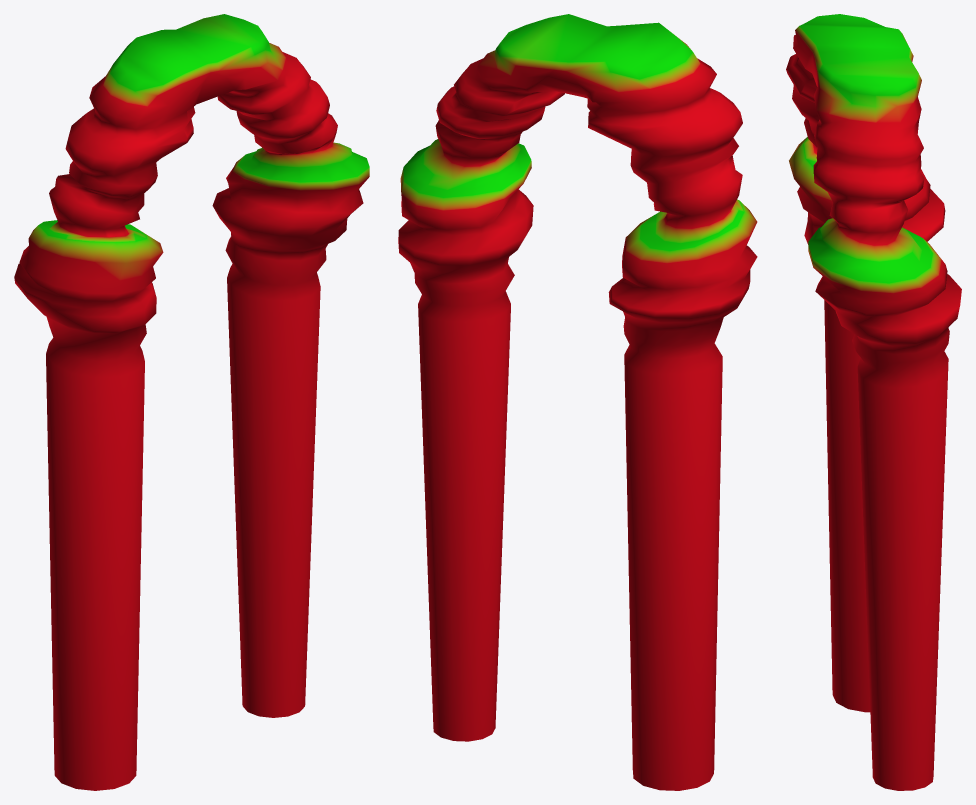
File: Sunken Tomb OOB Arch.fbx
The picture shows the model from 3 angles, left to right: view 1: azimuth 30°, elevation 25°; view 2: azimuth 150°, elevation 25°; view 3: azimuth 270°, elevation 25°; orthographic projection. The views are drawn at different scales.
Visible parts, largest first — view 1: OOB Arch; view 2: OOB Arch; view 3: OOB Arch.
Boxes of the visible parts, bbox=[...] form: OOB Arch: bbox=[14, 14, 369, 790]; OOB Arch: bbox=[398, 14, 757, 790]; OOB Arch: bbox=[786, 14, 961, 790].
Bounding box in the file's own units: 12457 × 25316 × 5813.
